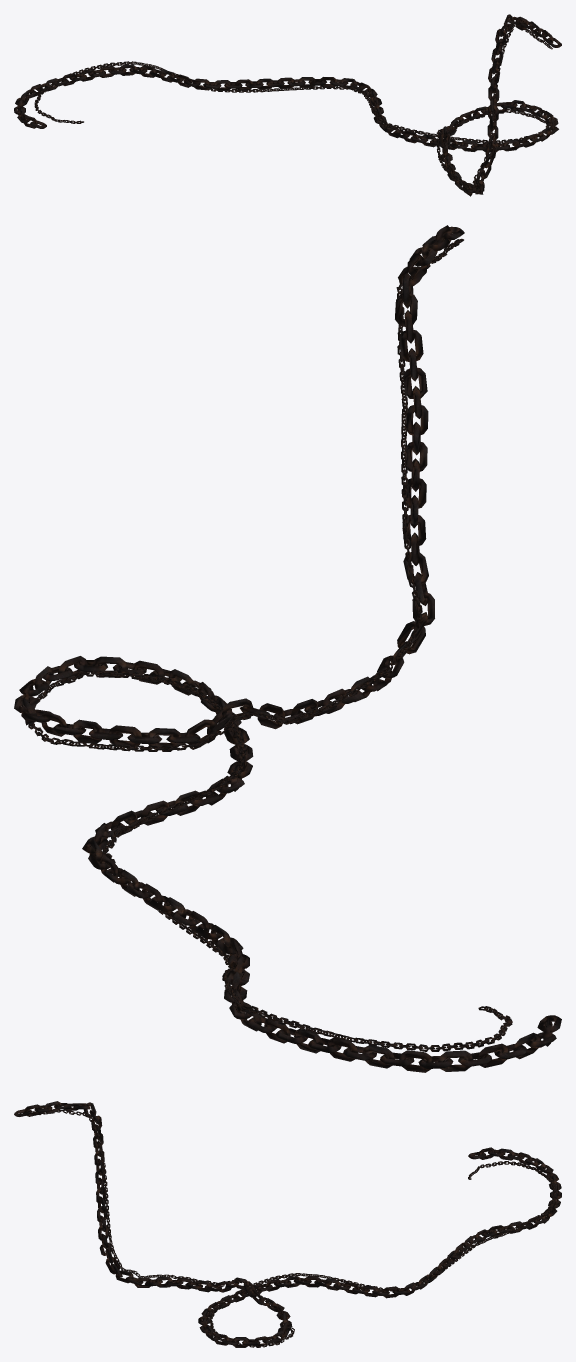
The picture shows the model from 3 angles, top to bottom: view 1: azimuth 30°, elevation 25°; view 2: azimuth 150°, elevation 25°; view 3: azimuth 270°, elevation 25°; orthographic projection. The views are drawn at different scales.
Parts seen in each view (by area): view 1: mesh0; view 2: mesh0; view 3: mesh0.
Boxes of the visible parts, x1,y1,x2,y2 form: mesh0: [14, 14, 561, 196]; mesh0: [14, 225, 561, 1072]; mesh0: [14, 1101, 561, 1347].
Size of the model in its own units: 9.95 by 4.7 by 11.85.
Materials: 1 (1 with a texture image).
